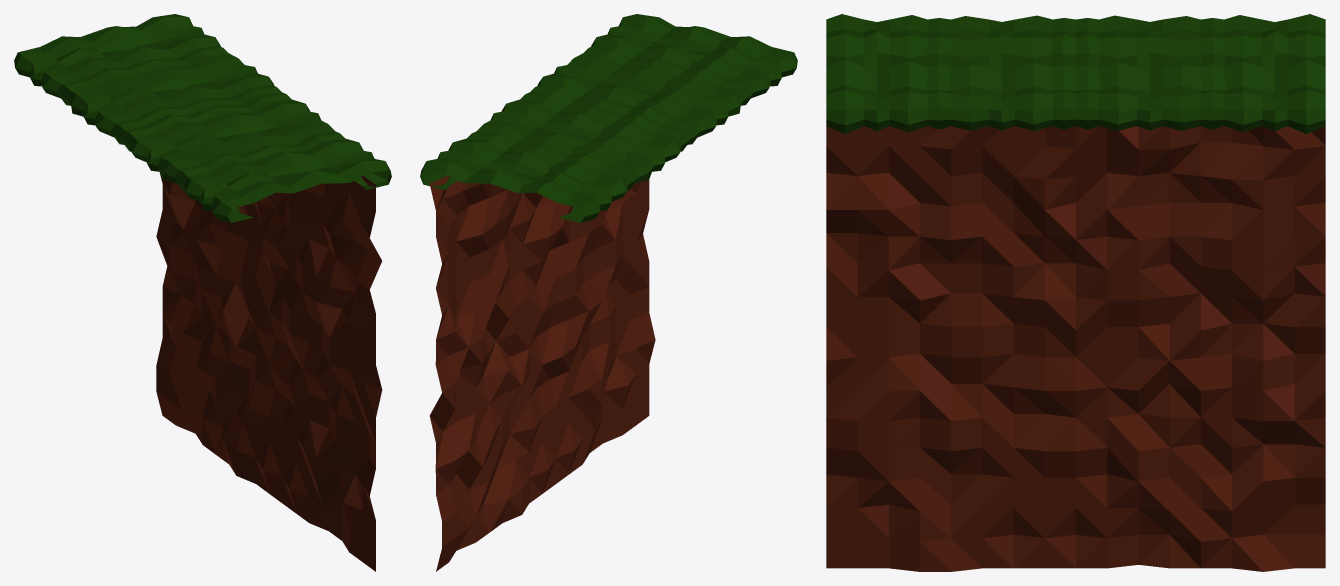
File: Tile2.glb
3 renders of one model, left to right at view 1: azimuth 30°, elevation 25°; view 2: azimuth 150°, elevation 25°; view 3: azimuth 270°, elevation 25°, orthographic. The views are drawn at different scales.
Parts seen in each view (by area): view 1: tile_B_2_obj, tile_A_2_obj; view 2: tile_B_2_obj, tile_A_2_obj; view 3: tile_B_2_obj, tile_A_2_obj.
Part boxes in pixels (<box>): tile_B_2_obj: <box>156,172,382,571</box>; tile_A_2_obj: <box>14,14,391,222</box>; tile_B_2_obj: <box>429,175,655,571</box>; tile_A_2_obj: <box>420,14,797,222</box>; tile_B_2_obj: <box>826,126,1325,571</box>; tile_A_2_obj: <box>826,14,1325,134</box>.
Bounding box in the file's own units: 4.65 × 10.19 × 9.65.
